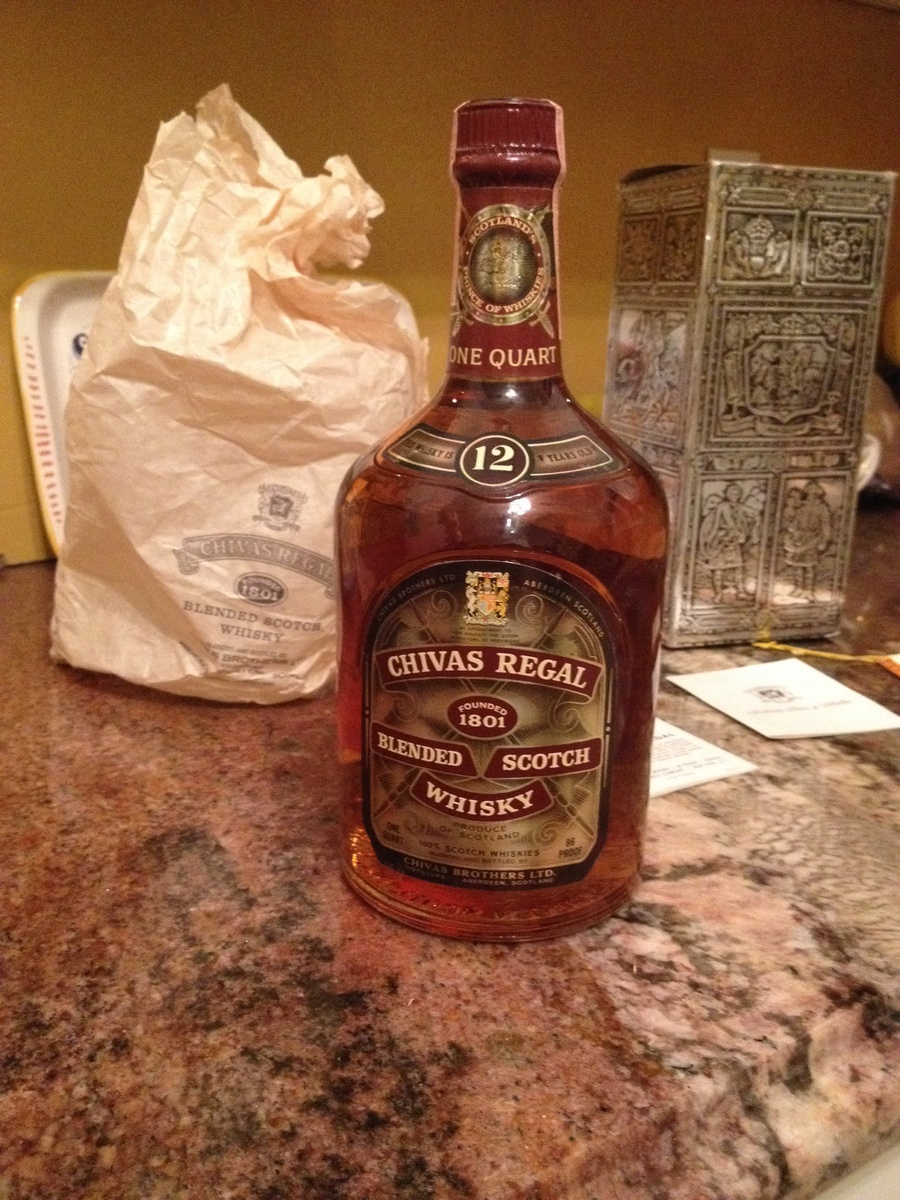Chivas Regal: (323, 90, 680, 949)
